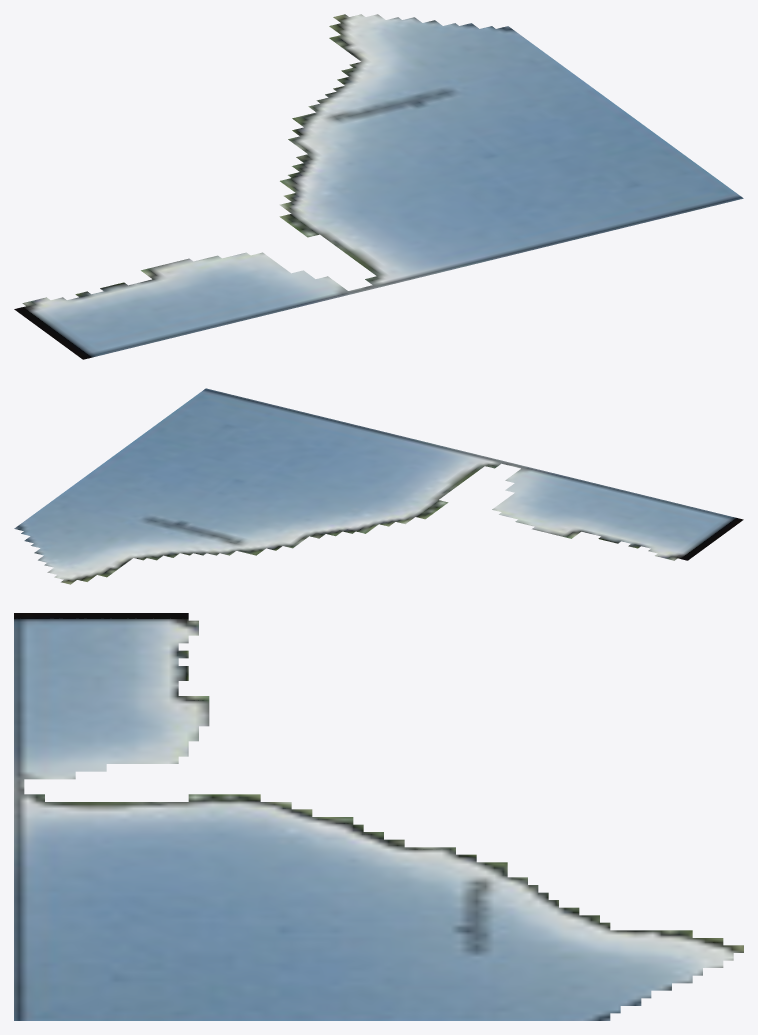
File: eastern-usa-sea.gltf
3 views of the same model, one above another, from view 1: azimuth 30°, elevation 25°; view 2: azimuth 150°, elevation 25°; view 3: azimuth 270°, elevation 25° (orthographic). The views are drawn at different scales.
Visible parts, largest first — view 1: Plane; view 2: Plane; view 3: Plane.
Boxes of the visible parts, x1,y1,x2,y2 form: Plane: (14, 14, 743, 359); Plane: (14, 388, 743, 584); Plane: (14, 613, 743, 1020).
Bounding box in the file's own units: 0.5331 × 0 × 0.4032.
Materials: 1 (1 with a texture image).
